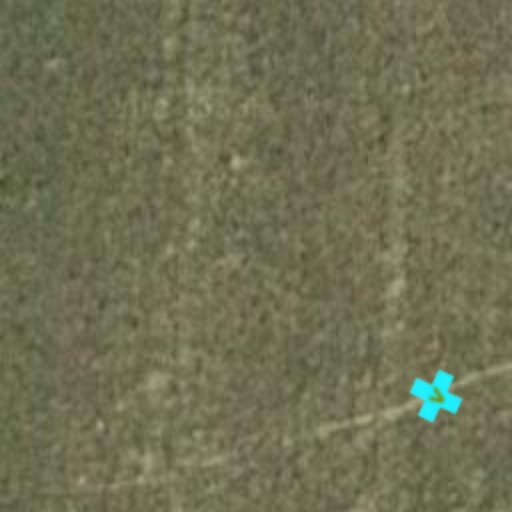cross: (402, 362, 470, 430)
